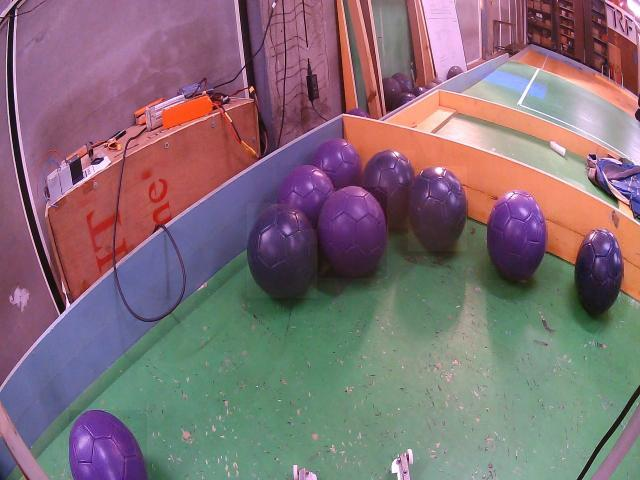jambhalya: (318, 187, 387, 278), (487, 190, 547, 280), (70, 410, 147, 480), (277, 165, 335, 229), (312, 138, 362, 190)
kaalyya: (247, 204, 317, 298), (408, 166, 467, 251), (575, 230, 623, 316), (363, 150, 415, 228)
